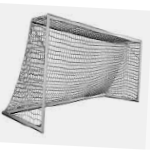goals: (2, 12, 144, 135)
